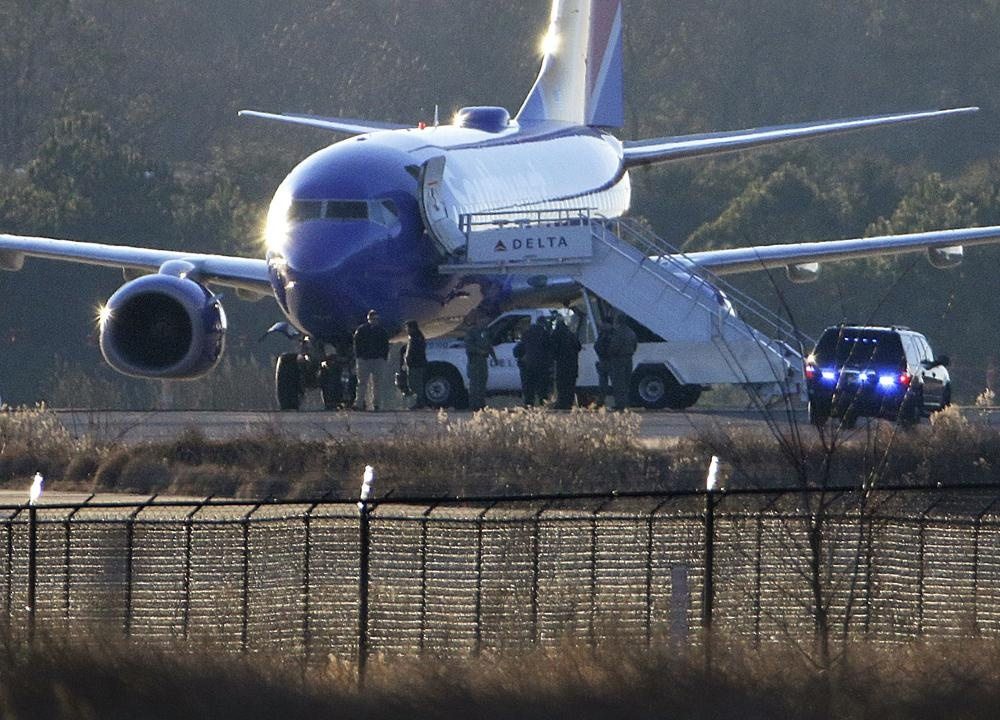airplane: (18, 1, 994, 403)
